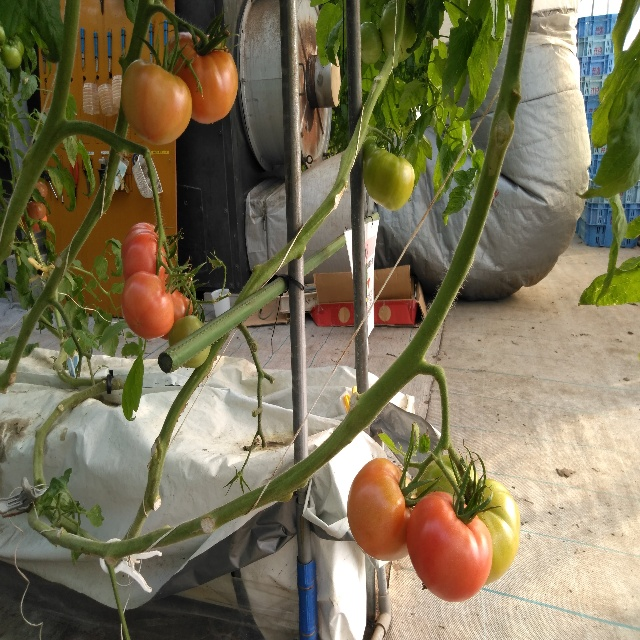b_fully_ripened: (406, 490, 494, 602), (121, 223, 170, 284)
b_green: (469, 478, 520, 587), (362, 150, 415, 212), (416, 454, 480, 504), (380, 1, 420, 64), (167, 314, 211, 368), (360, 21, 383, 66), (362, 136, 386, 161)
b_half_ripened: (347, 458, 419, 562), (164, 32, 238, 125), (121, 58, 191, 147), (121, 272, 174, 340), (163, 278, 199, 323)
